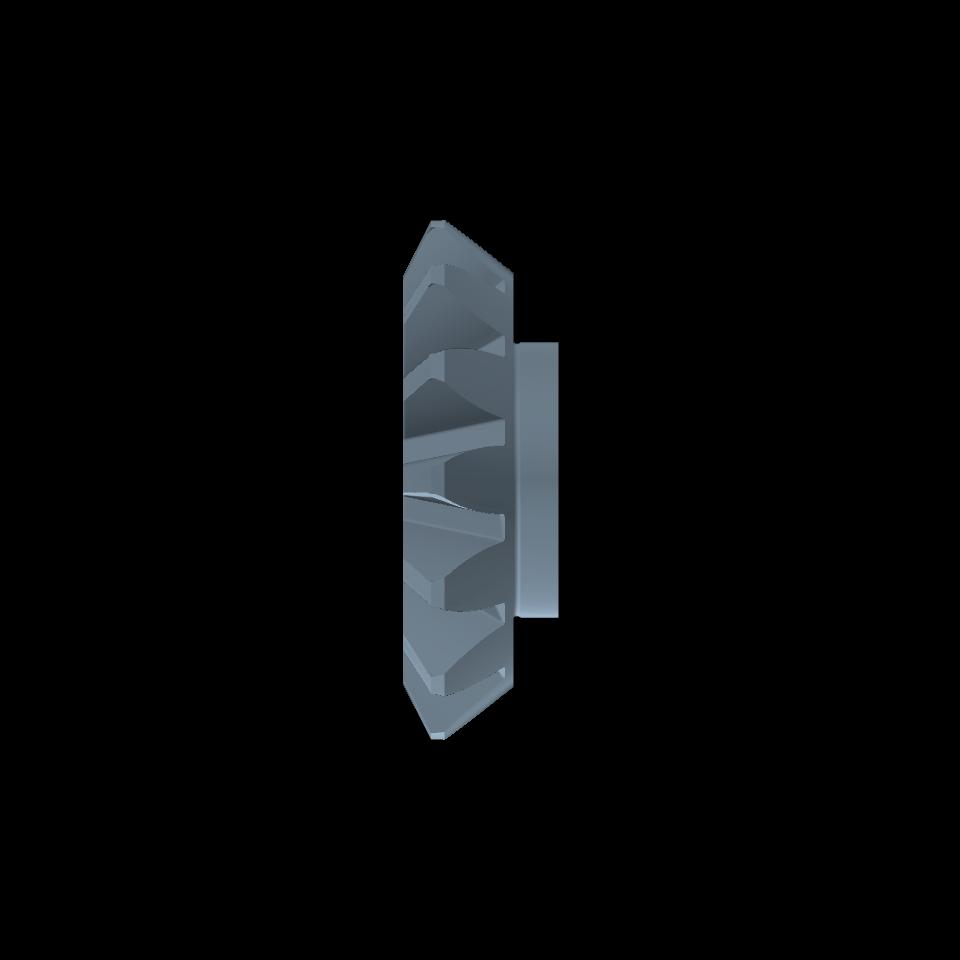Bevel: (404, 221, 514, 740)
